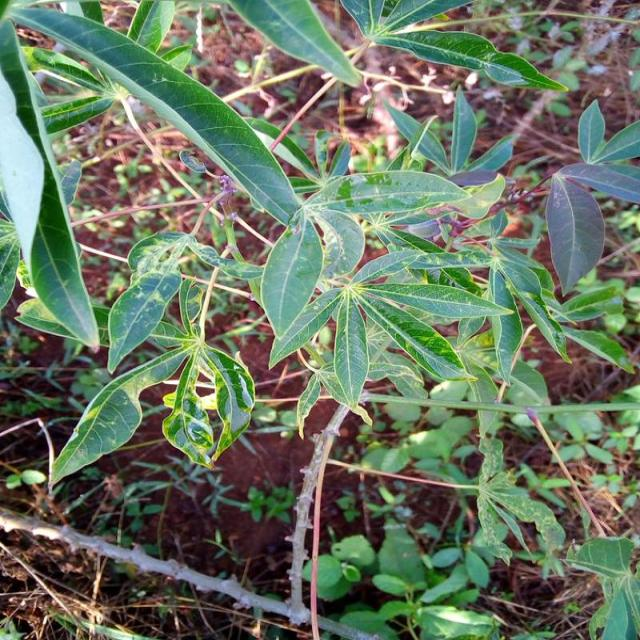cassava leaf: (7, 2, 303, 229)
